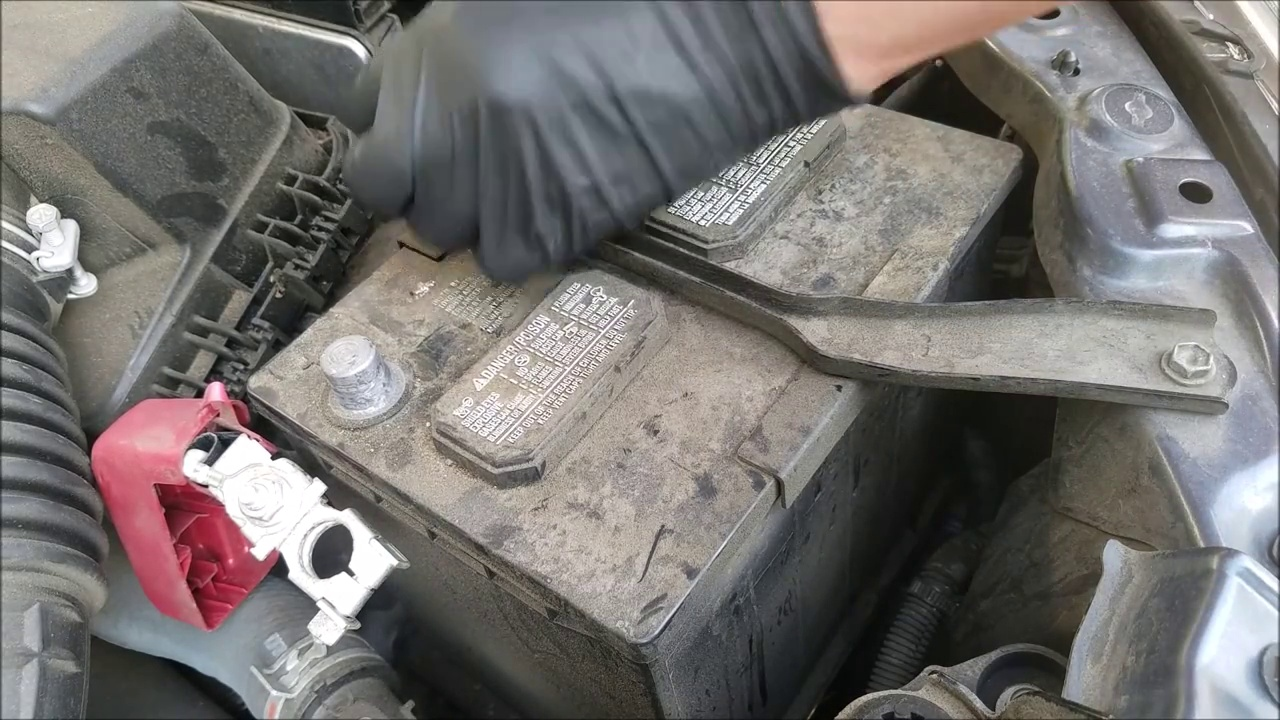battery: (294, 89, 1018, 652)
pos_disconnected: (106, 312, 433, 629)
